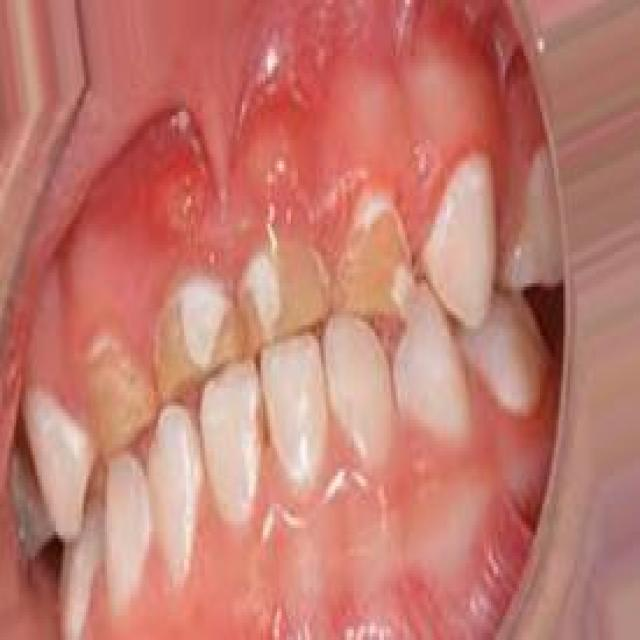caries: (330, 185, 426, 334), (151, 284, 244, 416), (238, 237, 332, 355), (80, 333, 156, 462)
